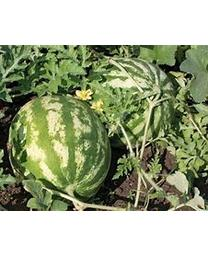watermelon: (8, 93, 111, 204), (87, 57, 176, 140)
